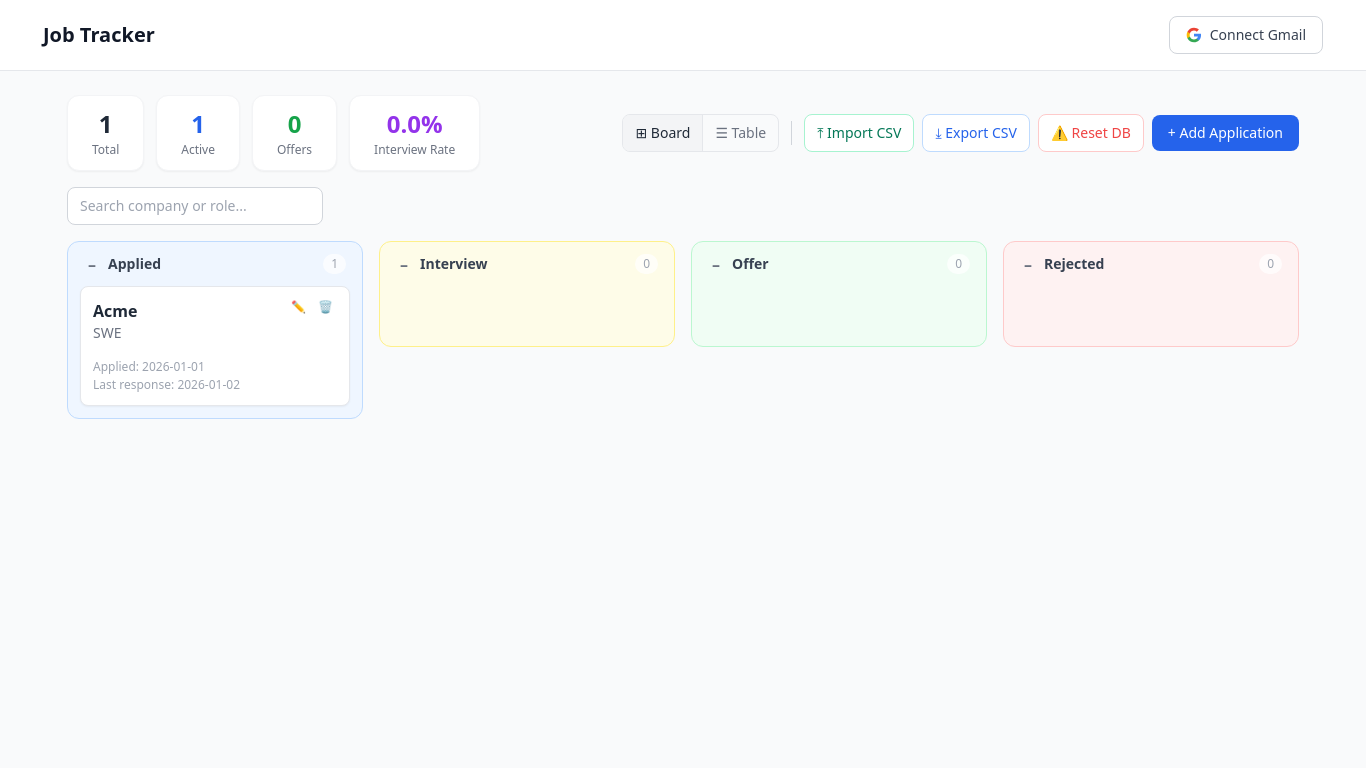
Test: App — delete confirmation dialog › should delete via the API when the user confirms
Click the button with test id "card-delete". click: (326, 307)
box: [314,299,337,315]
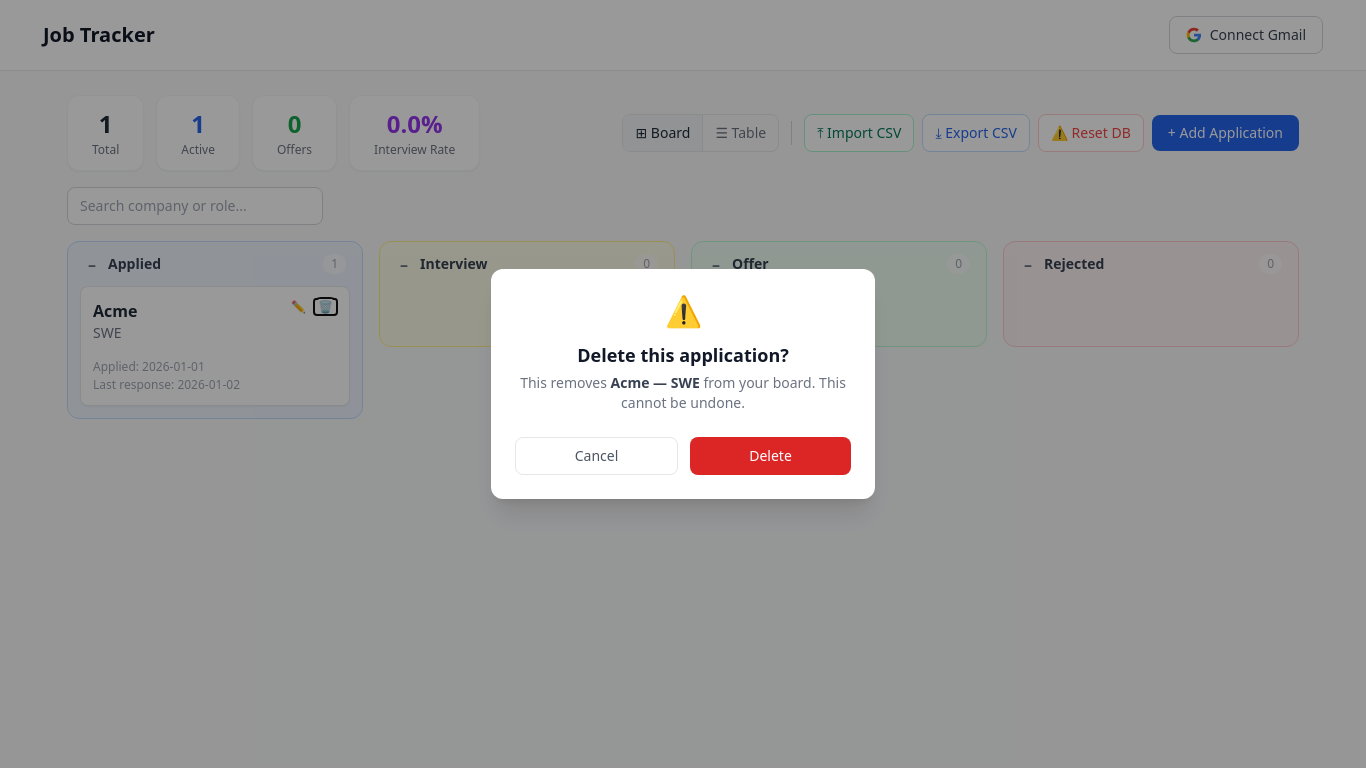
Result: the element with test id "delete-confirm-modal" is shown at [491,269,875,499]
Click the button with test id "delete-confirm". click: (770, 456)
box: [690,437,851,475]
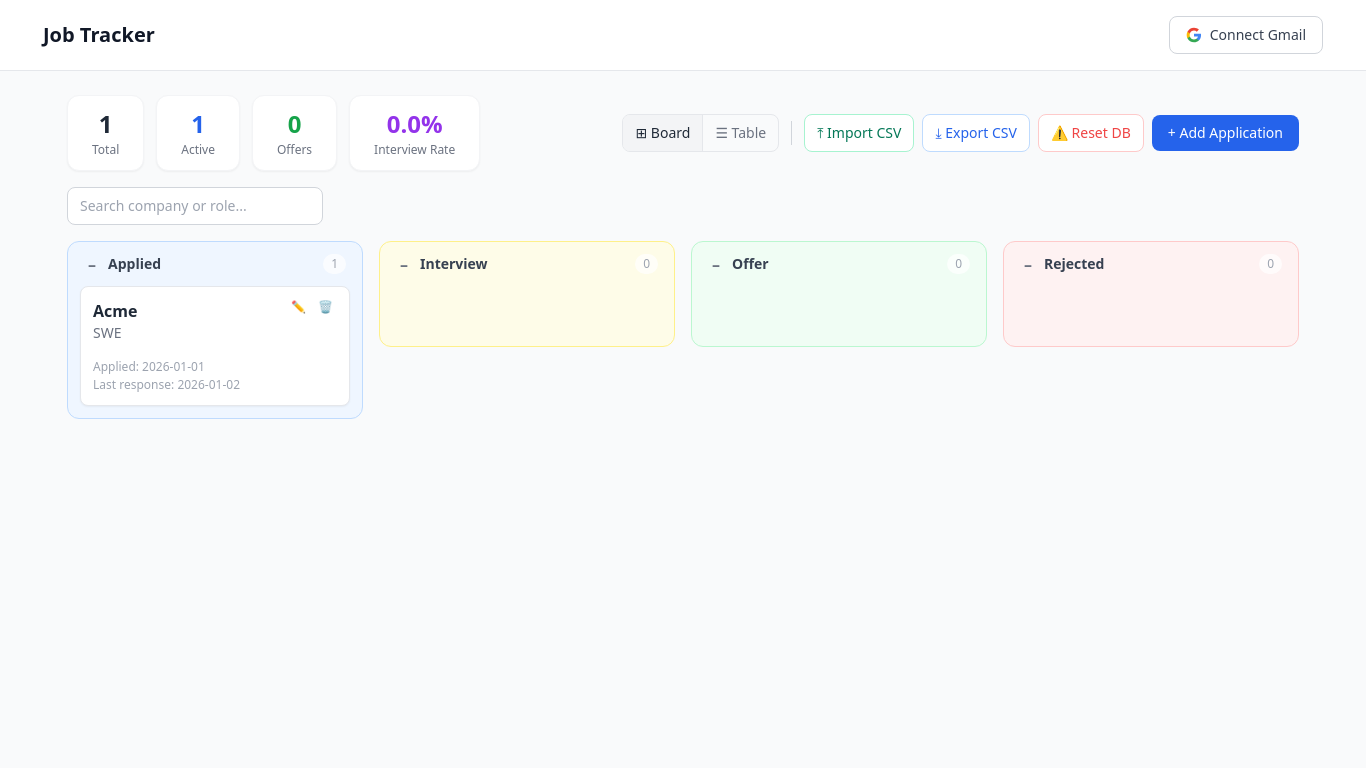
Result: the element with test id "delete-confirm-modal" is gone
